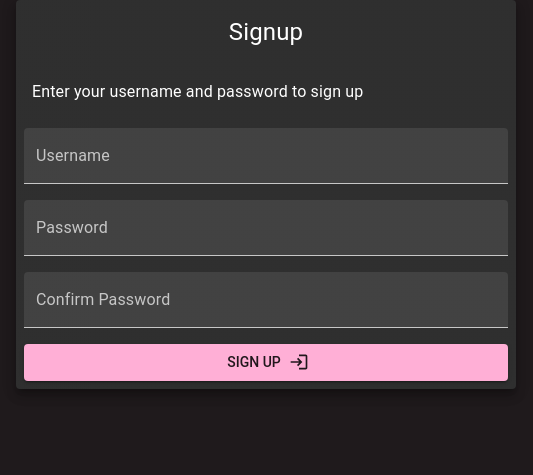
Test: Signup › gives an error when › password is too short
The image size is (533, 475).
Note: Password too short
Type "tes" into the password field labelled "Password". click: [266, 228]
box: [24, 200, 508, 256]
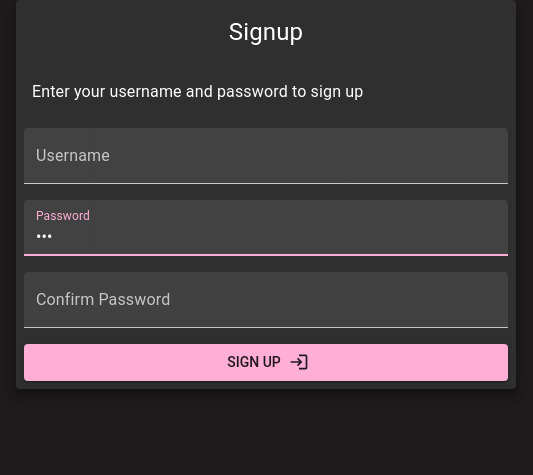
Click the button "Sign up". click: [266, 362]
box: [24, 344, 508, 380]
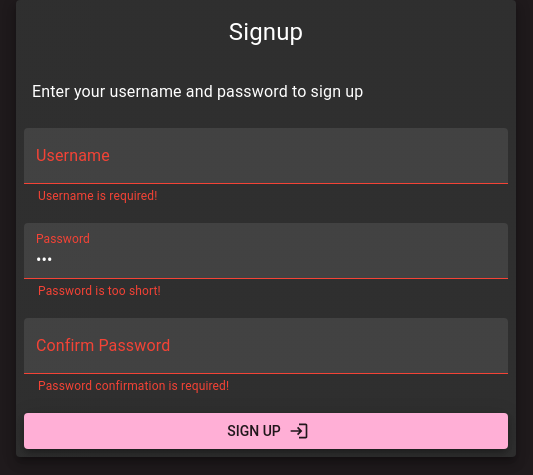
Expected: the text "Password is too short!" is shown, [38, 284, 161, 298]
